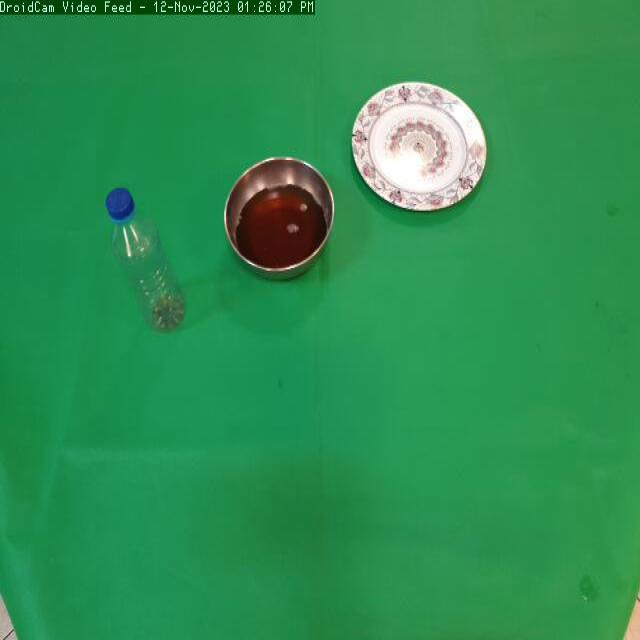bottle: (98, 172, 194, 350)
fullbowl: (220, 152, 341, 290)
plate: (344, 74, 494, 220)
